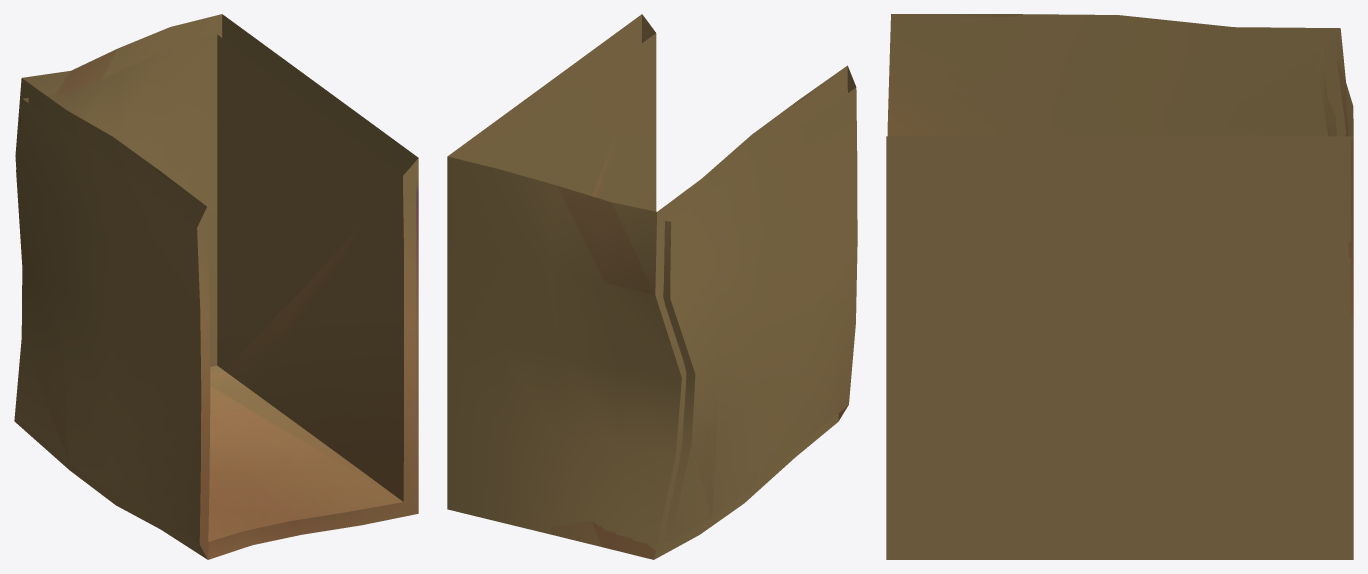
The model's file is box-right3-right.fbx.
3 views of the same model, side by side, from view 1: azimuth 30°, elevation 25°; view 2: azimuth 150°, elevation 25°; view 3: azimuth 270°, elevation 25° (orthographic). The views are drawn at different scales.
Visible parts, largest first — view 1: box-right3-right; view 2: box-right3-right; view 3: box-right3-right.
Boxes of the visible parts, x1,y1,x2,y2 form: box-right3-right: (14, 14, 418, 559); box-right3-right: (447, 14, 857, 559); box-right3-right: (886, 14, 1353, 559).
Bounding box in the file's own units: 110 × 174 × 166.
